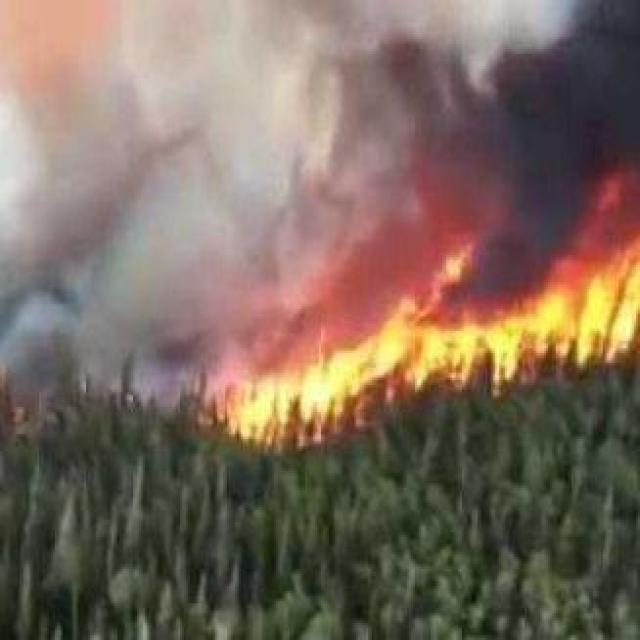Fire: (520, 269, 622, 372), (368, 284, 474, 378), (233, 362, 334, 442)
Smoke: (22, 40, 318, 378), (342, 43, 640, 215), (428, 75, 608, 196), (482, 207, 514, 307)
